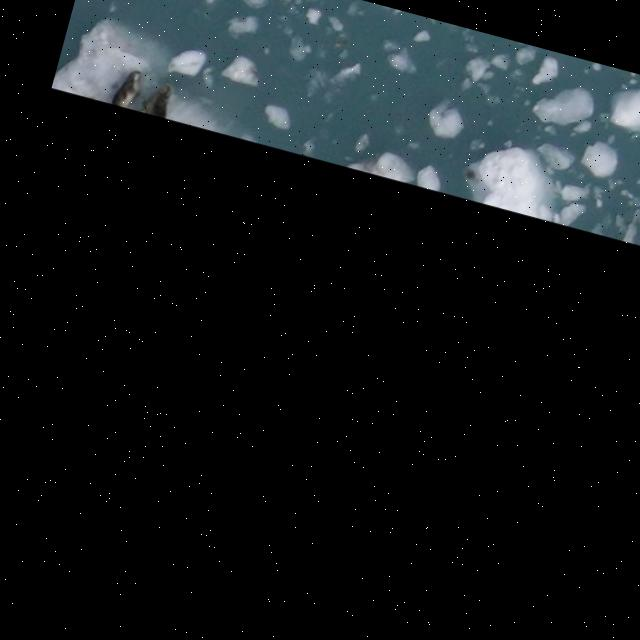seal: (111, 65, 144, 109), (141, 79, 174, 117)
